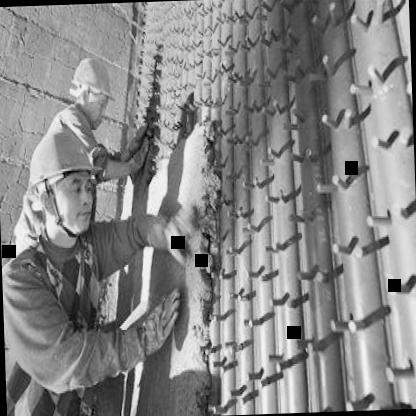helmet: (23, 116, 104, 244), (72, 58, 118, 124)
